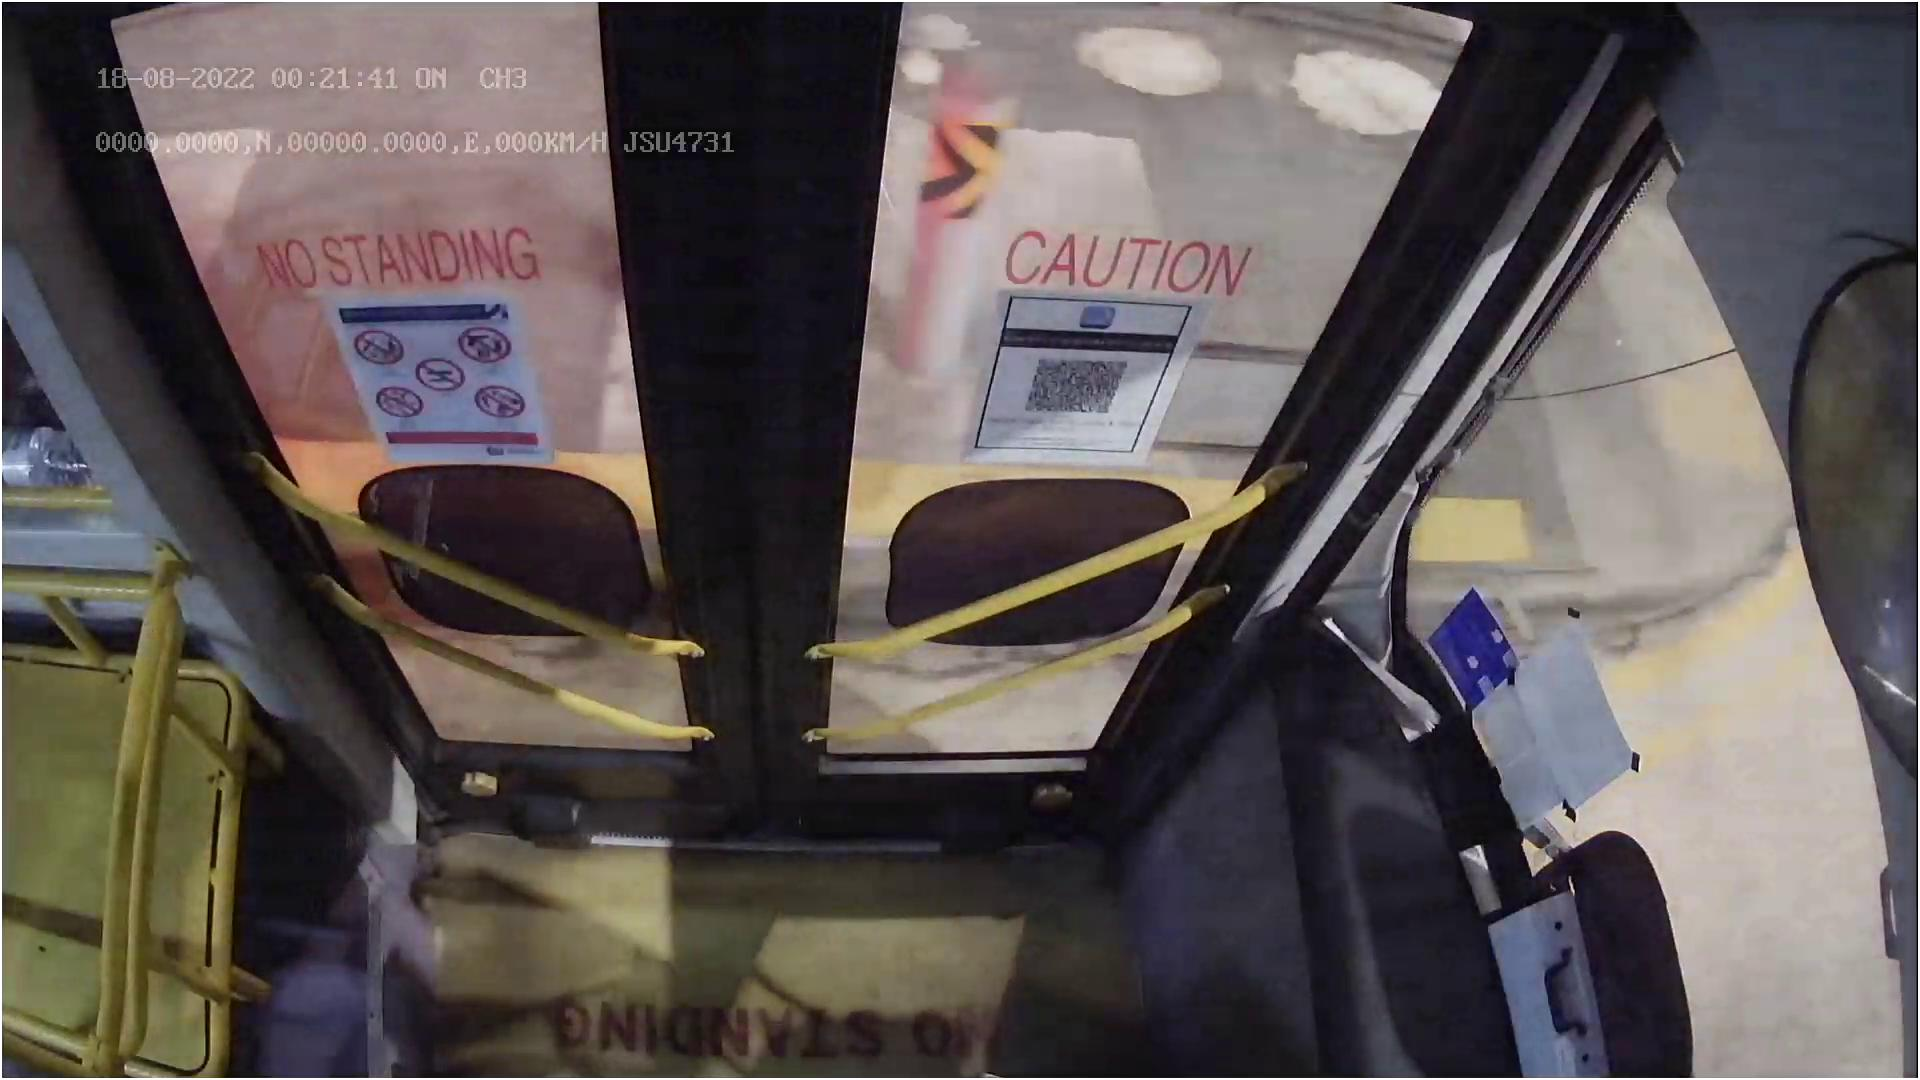close: (125, 0, 1435, 164)
